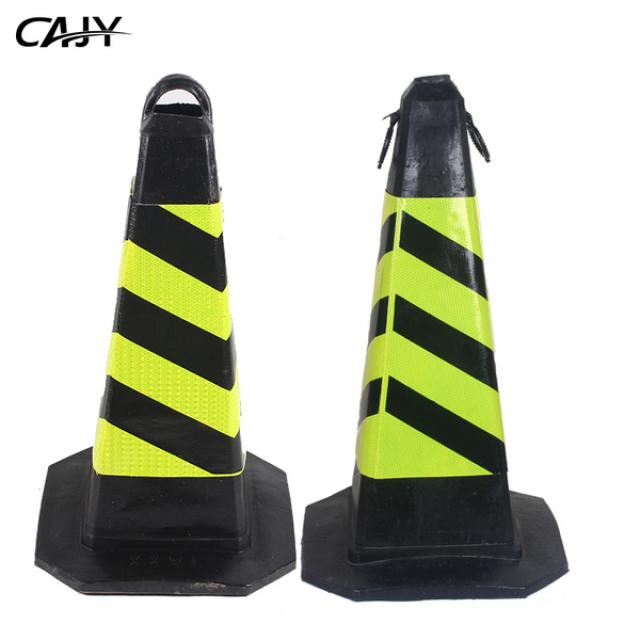reflective_cone: (299, 70, 572, 600), (28, 72, 298, 595)
